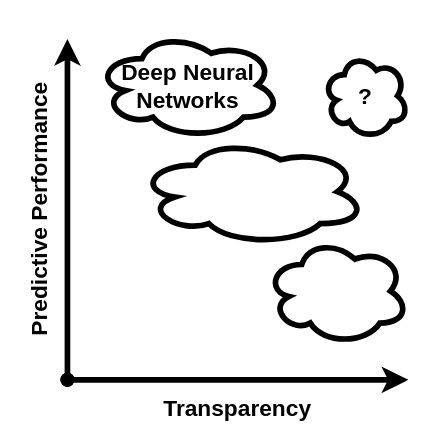
Some shapes in this 447 by 446 pixel diagram are drawn without their labels. The box of each missing label's shape, as (x1, y1, x2, y2) in pixels:
Decision Trees: (263, 234, 410, 346)
Support Vector Machines: (135, 135, 368, 247)
